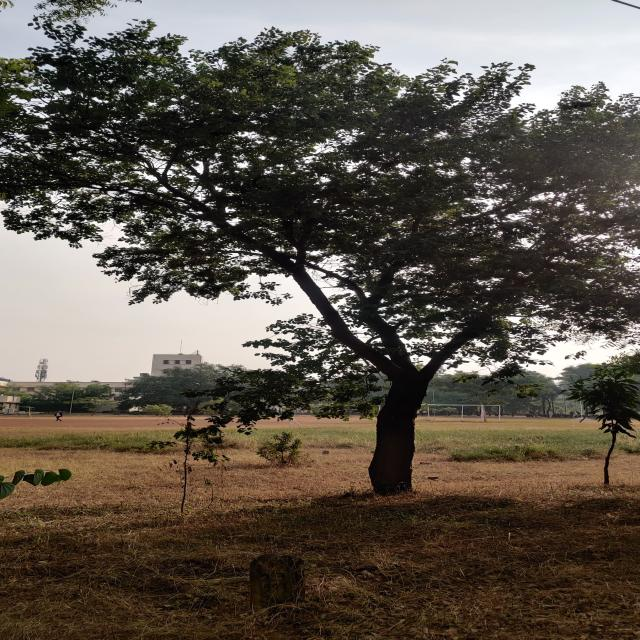Devakanchan tree: (102, 85, 616, 413)
